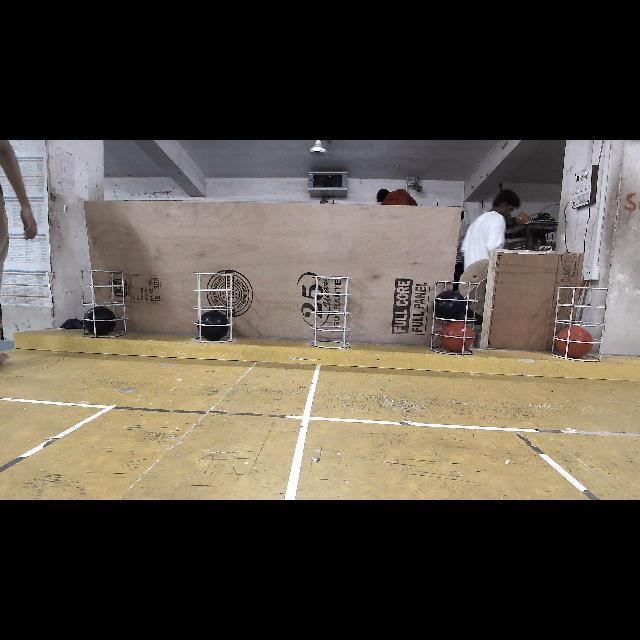P: (196, 311, 228, 339), (82, 308, 116, 334), (434, 292, 466, 318)
R: (558, 326, 592, 356), (441, 321, 474, 351)
S: (549, 284, 611, 362), (432, 278, 481, 356), (310, 274, 354, 350), (80, 270, 128, 338), (190, 272, 236, 342)
